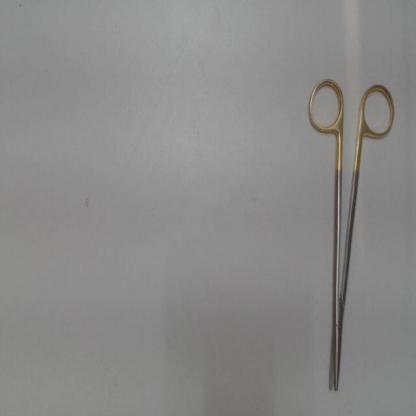7 Metzenbaum Scissors: (303, 74, 399, 394)
